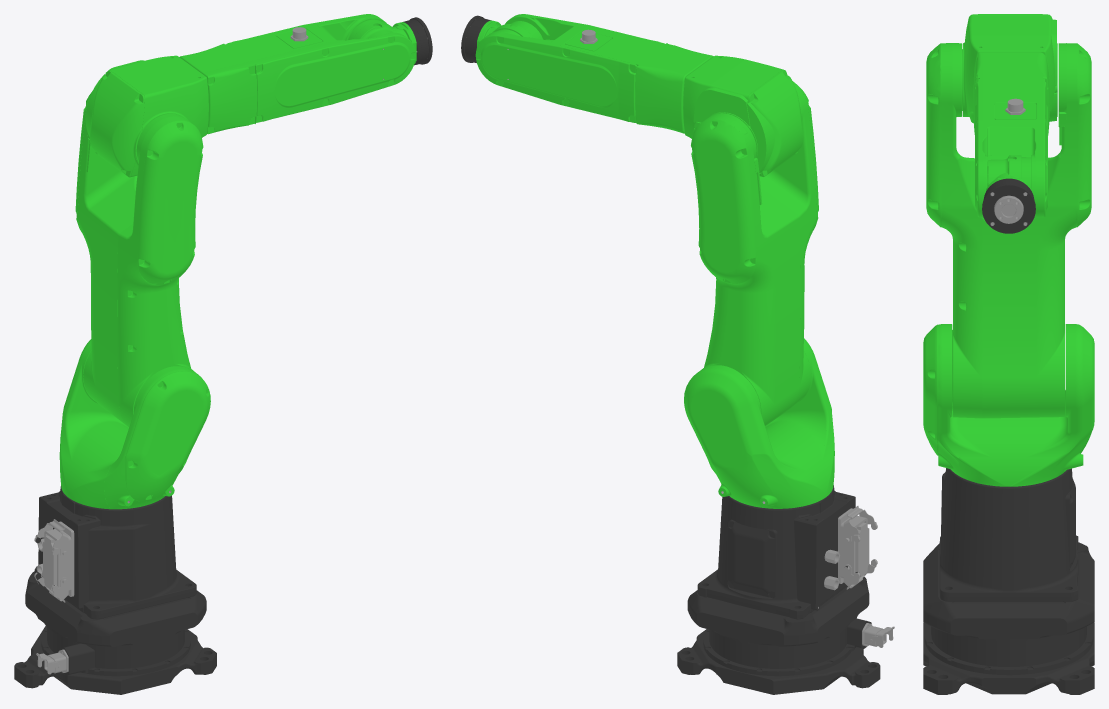
File: FANUC_CR7iAL.glb
3 renders of one model, left to right at view 1: azimuth 30°, elevation 25°; view 2: azimuth 150°, elevation 25°; view 3: azimuth 270°, elevation 25°, orthographic. The views are drawn at different scales.
Visible parts, largest first — view 1: link_0, link_2, link_4, link_1, link_3, link_5; view 2: link_0, link_2, link_4, link_1, link_3, link_5; view 3: link_2, link_0, link_1, link_4, link_3, link_5, link_6.
Boxes of the visible parts, left/top/right/bottom form: link_0: left=14, top=486, right=216, bottom=694; link_2: left=75, top=92, right=203, bottom=427; link_4: left=179, top=14, right=415, bottom=134; link_1: left=59, top=339, right=210, bottom=509; link_3: left=85, top=55, right=208, bottom=177; link_5: left=348, top=17, right=432, bottom=65; link_0: left=677, top=485, right=894, bottom=694; link_2: left=691, top=81, right=818, bottom=425; link_4: left=475, top=14, right=713, bottom=133; link_1: left=684, top=338, right=834, bottom=508; link_3: left=683, top=55, right=803, bottom=177; link_5: left=461, top=15, right=542, bottom=62; link_2: left=926, top=43, right=1091, bottom=418; link_0: left=923, top=468, right=1094, bottom=694; link_1: left=923, top=324, right=1094, bottom=486; link_4: left=973, top=52, right=1049, bottom=217; link_3: left=962, top=14, right=1057, bottom=122; link_5: left=982, top=155, right=1035, bottom=233; link_6: left=994, top=195, right=1023, bottom=223.
Bounding box in the file's own units: 0.722 × 0.9959 × 0.235.
